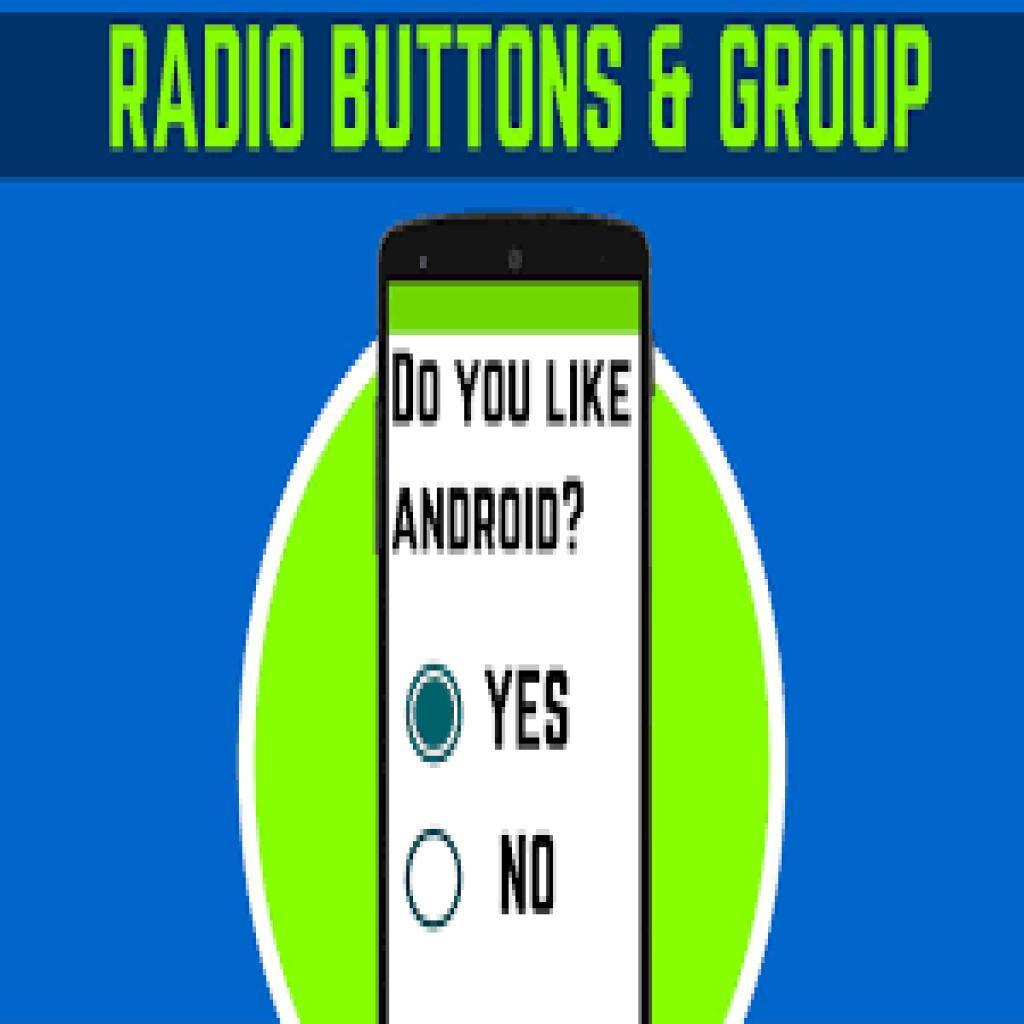radio: (404, 822, 473, 932), (405, 658, 468, 775)
